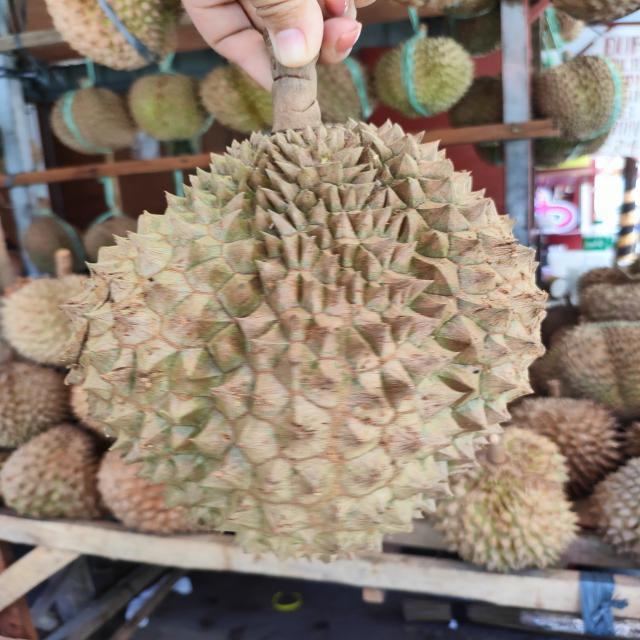mature: (52, 121, 543, 561)
